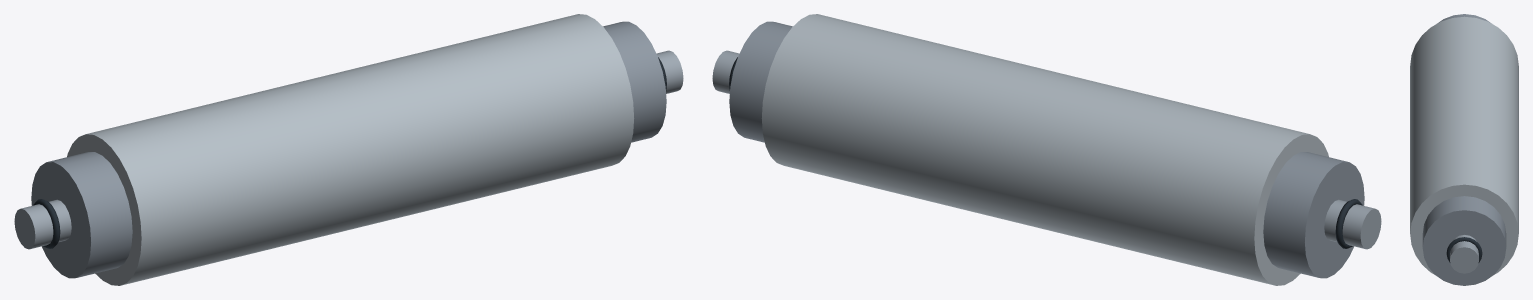
Rendered from idler-roller.glb.
The picture shows the model from 3 angles, left to right: view 1: azimuth 30°, elevation 25°; view 2: azimuth 150°, elevation 25°; view 3: azimuth 270°, elevation 25°; orthographic projection. The views are drawn at different scales.
Size of the model in its own units: 1.25 by 0.26 by 0.26.
